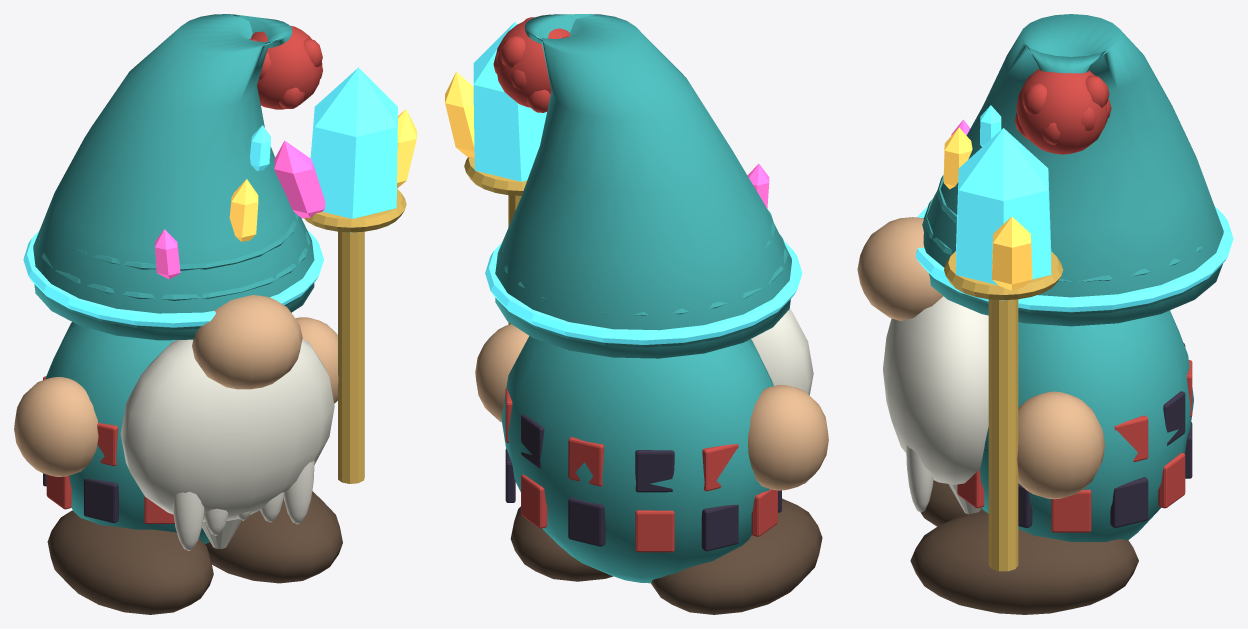
File: gnome-crystal.glb
3 renders of one model, left to right at view 1: azimuth 30°, elevation 25°; view 2: azimuth 150°, elevation 25°; view 3: azimuth 270°, elevation 25°, orthographic. The views are drawn at different scales.
Parts seen in each view (by area): view 1: gnome-crystal; view 2: gnome-crystal; view 3: gnome-crystal.
Part boxes in pixels (x1,y1,x2,y2): gnome-crystal: (14, 14, 416, 614); gnome-crystal: (445, 14, 828, 614); gnome-crystal: (857, 14, 1233, 614).
Size of the model in its own units: 1.11 by 1.46 by 0.888.
